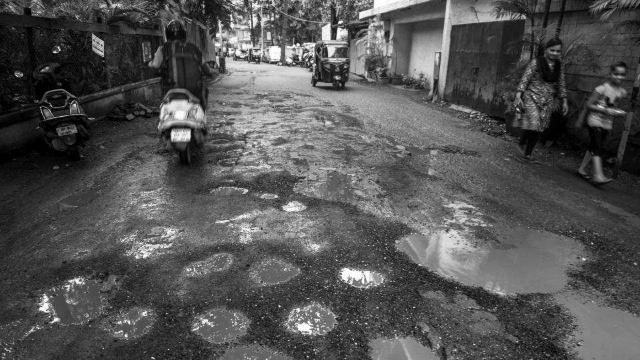Pothole: (300, 158, 640, 360), (0, 269, 180, 357), (178, 310, 296, 360), (202, 179, 312, 219), (270, 294, 348, 346), (165, 234, 242, 286), (362, 318, 433, 360), (331, 254, 393, 294), (247, 254, 307, 286)
